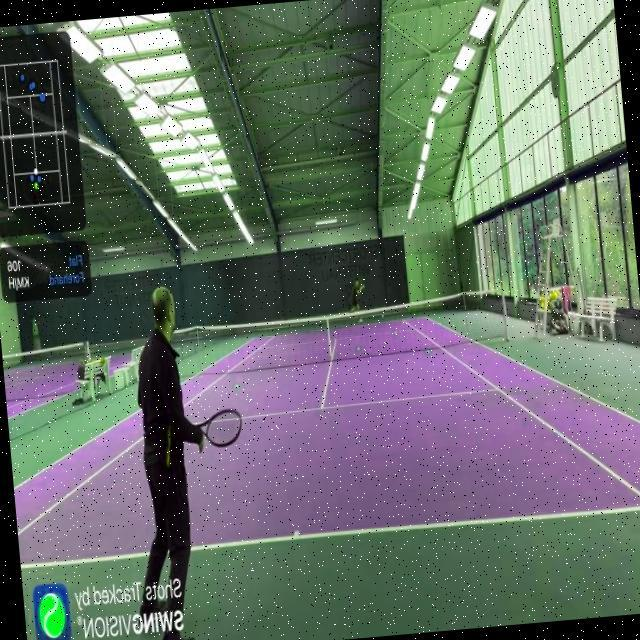court: (2, 297, 640, 568)
net: (153, 292, 510, 379)
player: (110, 279, 261, 640)
